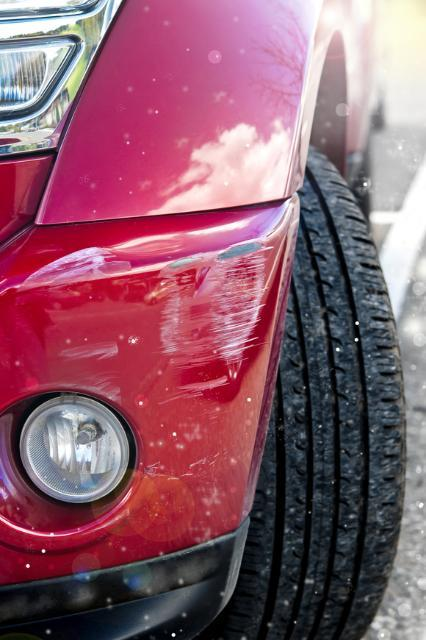Bumper: (19, 228, 288, 564)
